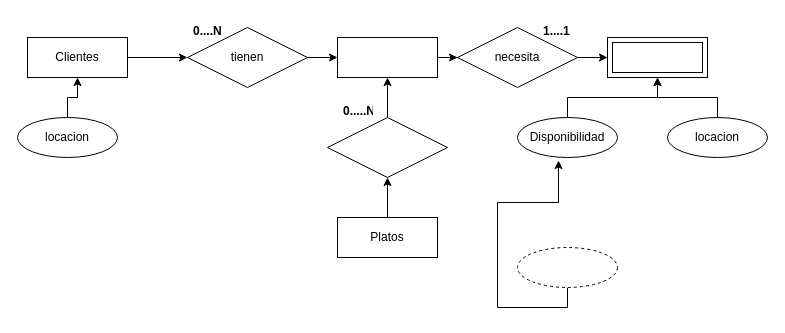
Some shapes in this 785 by 333 pixel diagram are drawn without their labels. The centre of each missing label's shape, as x and y in pixels:
"Busqueda de disponibilidad" goes at point (567, 267).
"estan en" goes at point (387, 147).
"Pedidos" goes at point (387, 57).
"Transporte" goes at point (657, 57).
